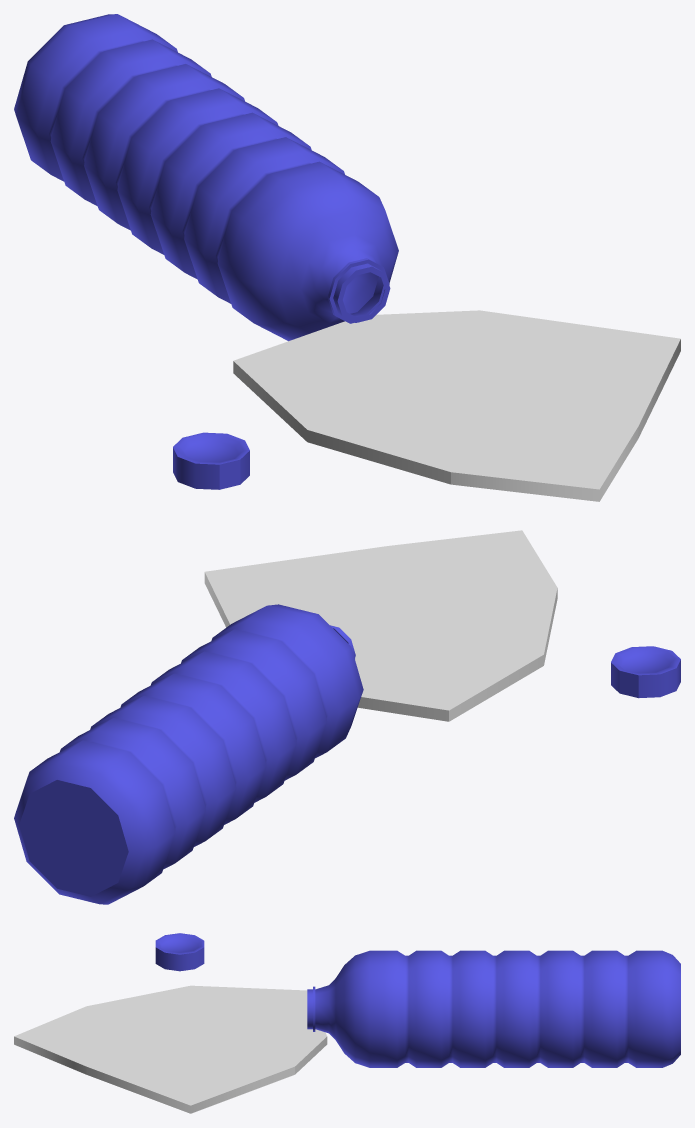
The model's file is waterbottle_prototype.fbx.
3 renders of one model, top to bottom at view 1: azimuth 30°, elevation 25°; view 2: azimuth 150°, elevation 25°; view 3: azimuth 270°, elevation 25°, orthographic. The views are drawn at different scales.
Visible parts, largest first — view 1: Cylinder011, Box003, Object001; view 2: Cylinder011, Box003, Object001; view 3: Cylinder011, Box003, Object001.
Part boxes in pixels (left/top/right/bottom): Cylinder011: left=14, top=14, right=398, bottom=341; Box003: left=233, top=310, right=680, bottom=501; Object001: left=173, top=432, right=249, bottom=489; Cylinder011: left=14, top=604, right=363, bottom=904; Box003: left=204, top=530, right=557, bottom=721; Object001: left=611, top=646, right=680, bottom=698; Cylinder011: left=307, top=950, right=680, bottom=1067; Box003: left=14, top=985, right=327, bottom=1113; Object001: left=155, top=933, right=204, bottom=971.
Size of the model in its own units: 15.85 by 4.58 by 27.2.
